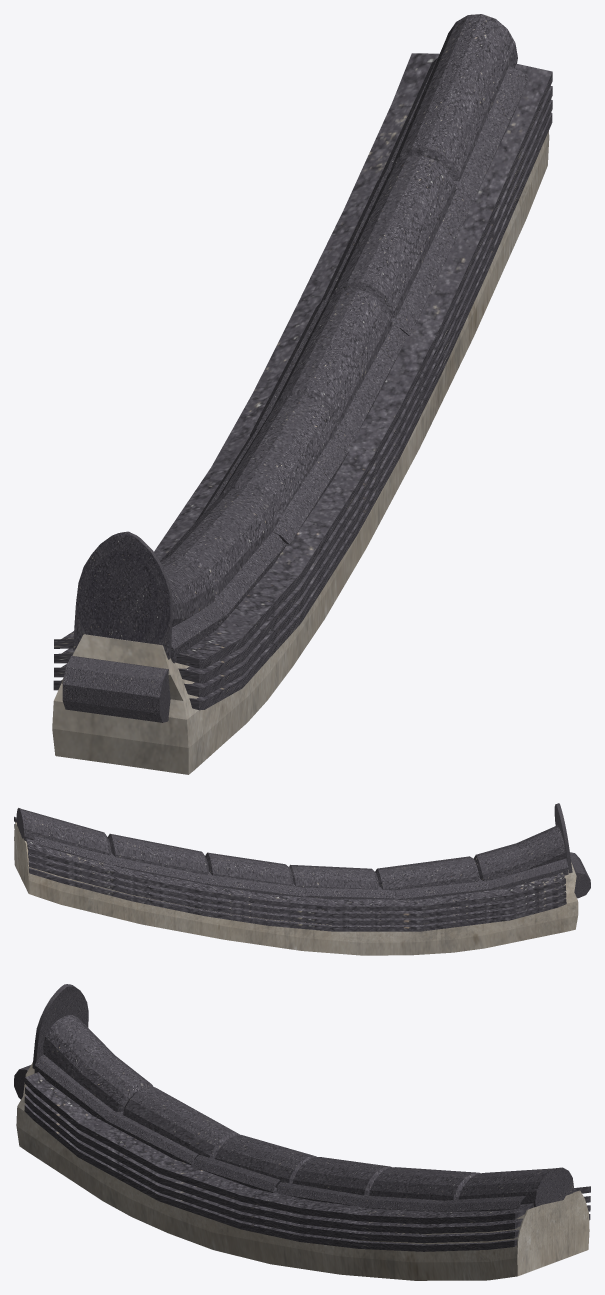
The model's file is SM_R_BeamRoof_10.fbx.
The picture shows the model from 3 angles, top to bottom: view 1: azimuth 30°, elevation 25°; view 2: azimuth 150°, elevation 25°; view 3: azimuth 270°, elevation 25°; orthographic projection. The views are drawn at different scales.
Parts seen in each view (by area): view 1: SM_R_BeamRoof_10; view 2: SM_R_BeamRoof_10; view 3: SM_R_BeamRoof_10.
Boxes of the visible parts, x1,y1,x2,y2 form: SM_R_BeamRoof_10: (52, 14, 552, 774); SM_R_BeamRoof_10: (14, 803, 590, 955); SM_R_BeamRoof_10: (14, 984, 590, 1280).
Size of the model in its own units: 231 by 207 by 88.45.
2 materials, 2 textured.
